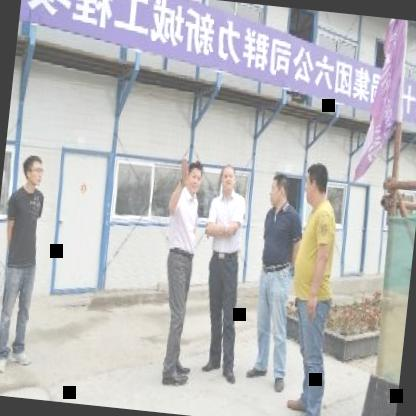head: (300, 156, 332, 210), (266, 162, 294, 212), (17, 149, 49, 189), (179, 158, 206, 198), (216, 157, 238, 195)
